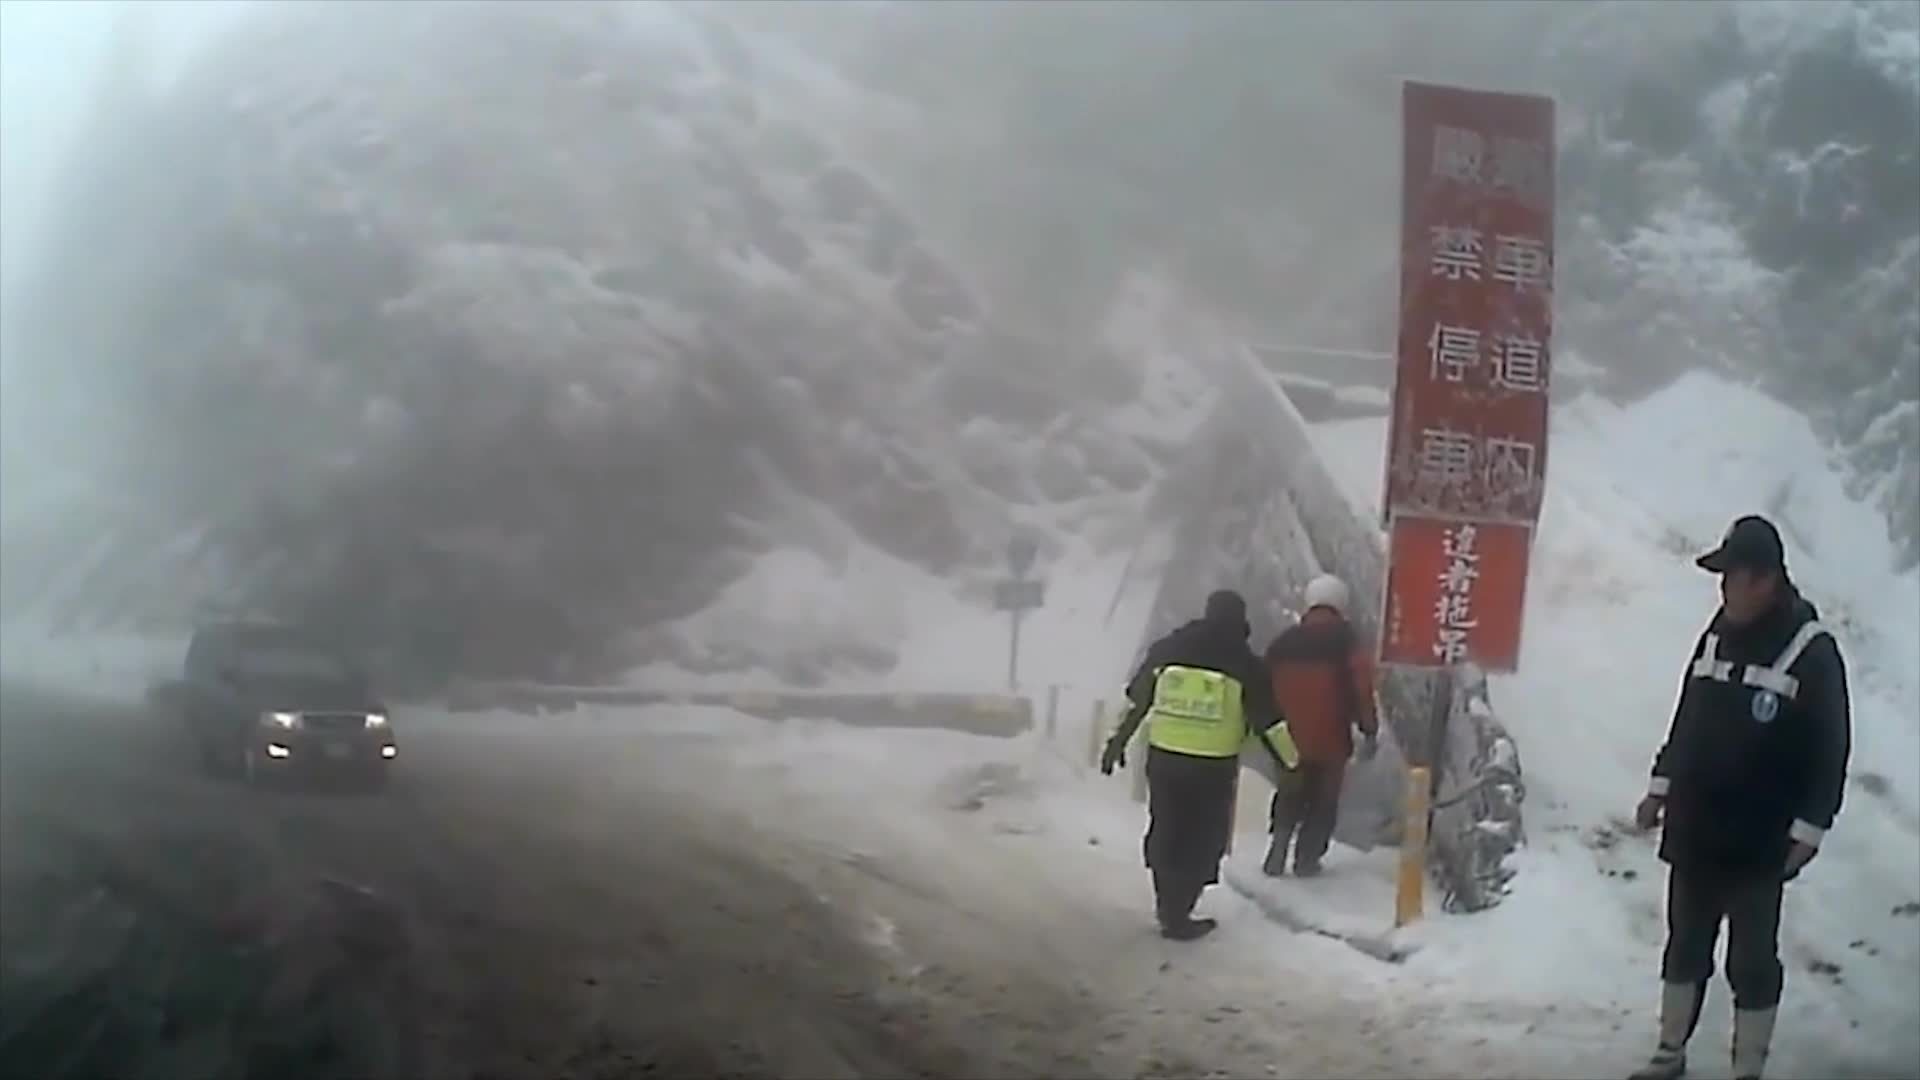pedestrian: (1636, 517, 1856, 1080), (1105, 588, 1292, 939), (1257, 570, 1380, 877)
vehicle: (180, 621, 398, 794)
